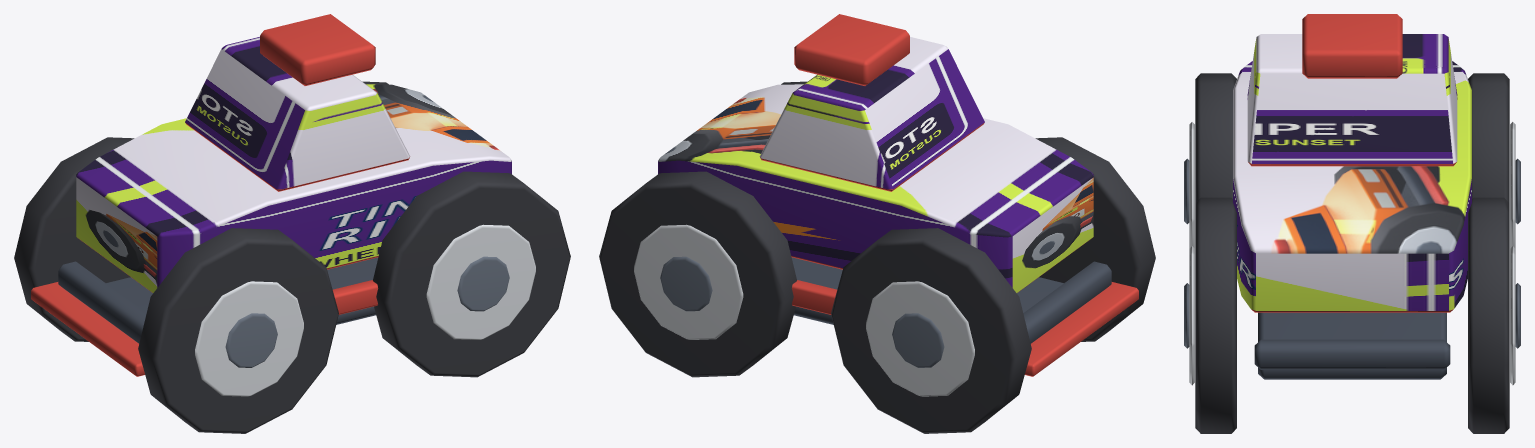
3 views of the same model, side by side, from view 1: azimuth 30°, elevation 25°; view 2: azimuth 150°, elevation 25°; view 3: azimuth 270°, elevation 25° (orthographic). The views are drawn at different scales.
Visible parts, largest first — view 1: BW-03_connected_shell, Tire, Tire.002, BW-03_cabin, Tire.001, Rim.002, Rim, custom equipment, custom chin, front bumper, Hub.002, Hub (+2 smaller); view 2: BW-03_connected_shell, Tire.001, Tire.003, BW-03_cabin, Tire, Rim.003, Rim.001, custom equipment, custom chin, front bumper, Hub.003, Hub.001 (+2 smaller); view 3: BW-03_connected_shell, BW-03_cabin, Tire.002, Tire.003, underbody, custom equipment, rear bumper, Tire, Tire.001, Rim.002, Rim.003, Rim (+5 smaller).
Boxes of the visible parts, x1,y1,x2,y2 form: BW-03_connected_shell: (76,84,511,292); Tire: (138,228,338,433); Tire.002: (373,171,570,377); BW-03_cabin: (185,37,410,191); Tire.001: (14,137,134,341); Rim.002: (426,224,535,339); Rim: (195,281,303,396); custom equipment: (260,14,375,85); custom chin: (31,282,144,376); front bumper: (58,261,146,343); Hub.002: (457,256,509,311); Hub: (225,313,277,367); BW-03_connected_shell: (658,84,1093,292); Tire.001: (831,228,1031,433); Tire.003: (599,171,796,377); BW-03_cabin: (759,37,984,191); Tire: (1035,137,1155,341); Rim.003: (634,224,743,339); Rim.001: (866,281,974,396); custom equipment: (794,14,909,85); custom chin: (1025,282,1138,376); front bumper: (1023,261,1111,343); Hub.003: (660,256,712,311); Hub.001: (892,313,944,367); BW-03_connected_shell: (1233,61,1471,312); BW-03_cabin: (1247,34,1457,166); Tire.002: (1195,197,1236,433); Tire.003: (1468,197,1509,433); underbody: (1258,312,1446,379); custom equipment: (1302,14,1402,78); rear bumper: (1254,339,1450,369); Tire: (1195,73,1236,202); Tire.001: (1468,73,1509,202); Rim.002: (1189,246,1194,385); Rim.003: (1510,246,1515,385); Rim: (1189,122,1194,248).
Size of the model in its own units: 332 by 236 by 210.
